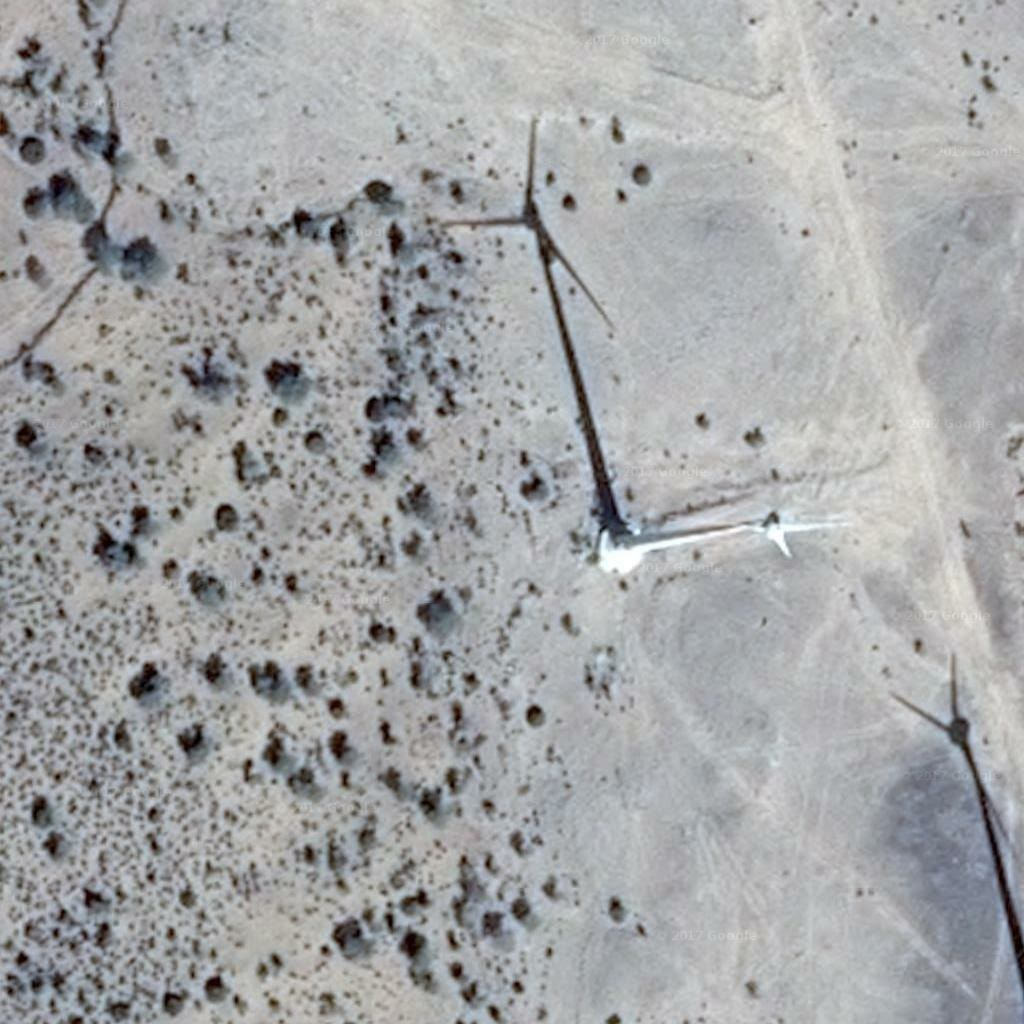Windmill: (425, 110, 653, 514)
